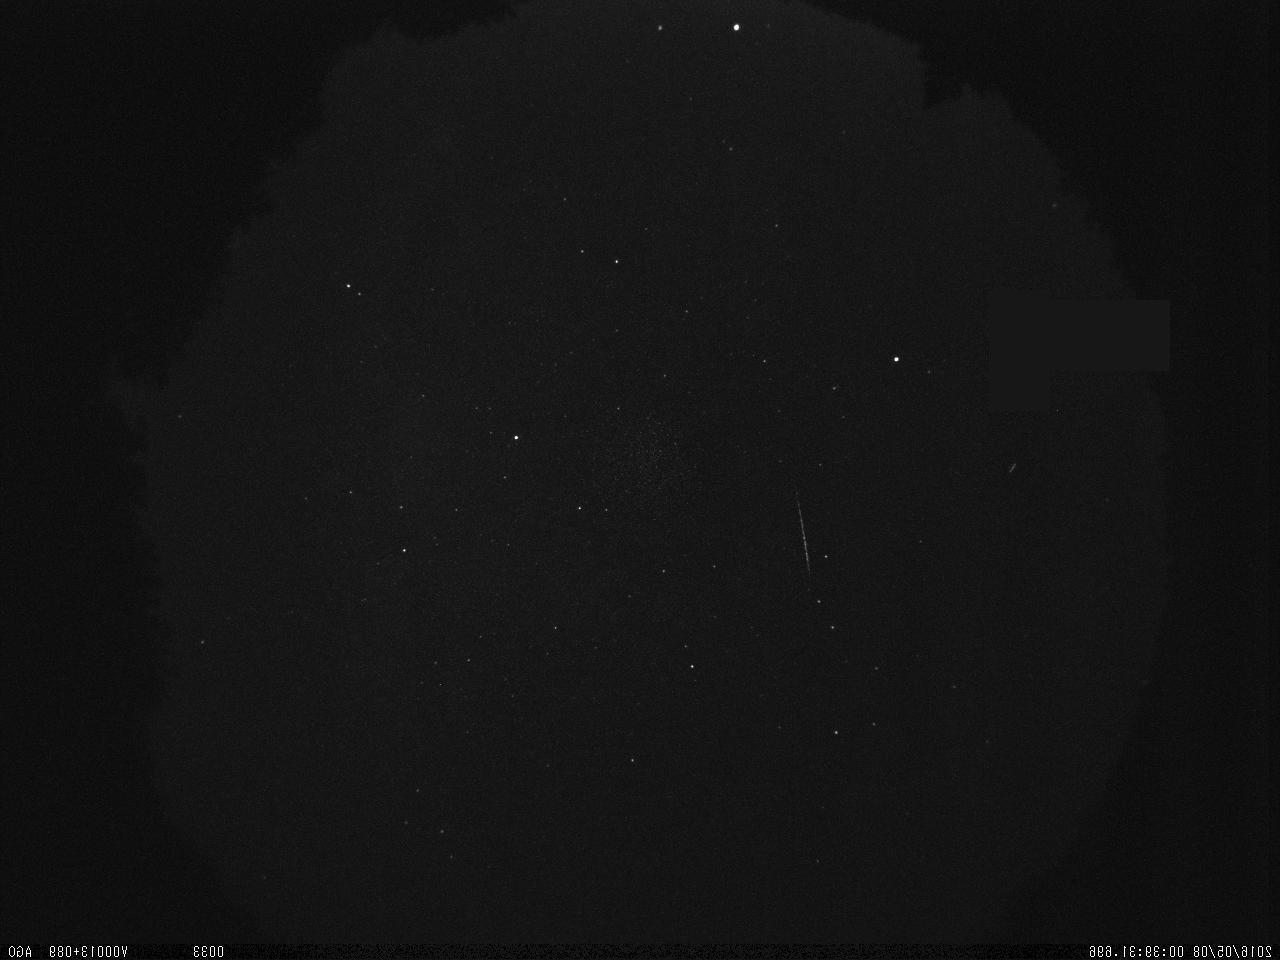meteor: (790, 480, 815, 580)
